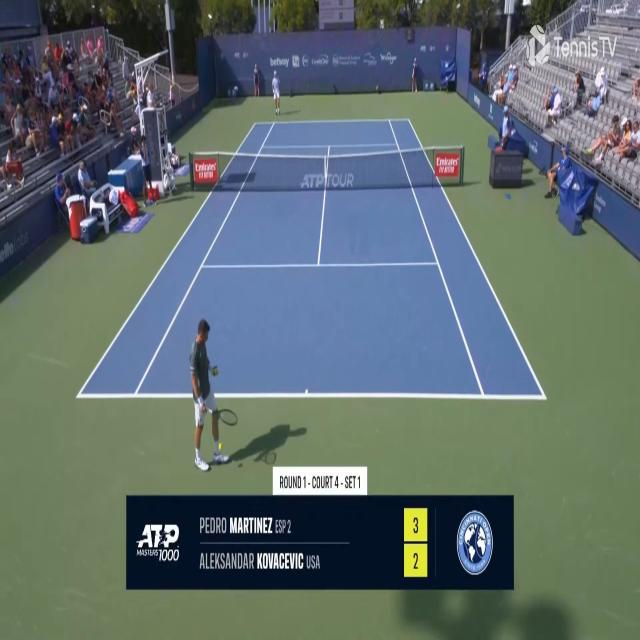tennis-player: (188, 310, 239, 477), (272, 69, 281, 115)
